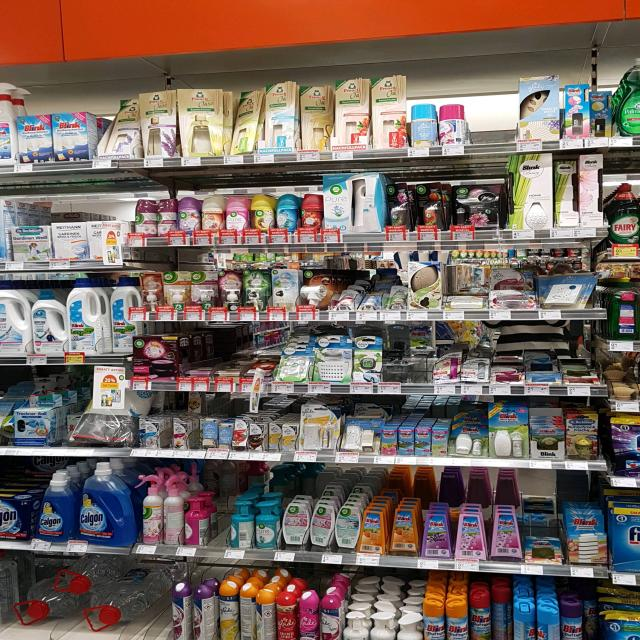empty: (462, 82, 517, 146), (129, 565, 171, 631), (207, 478, 236, 547)
